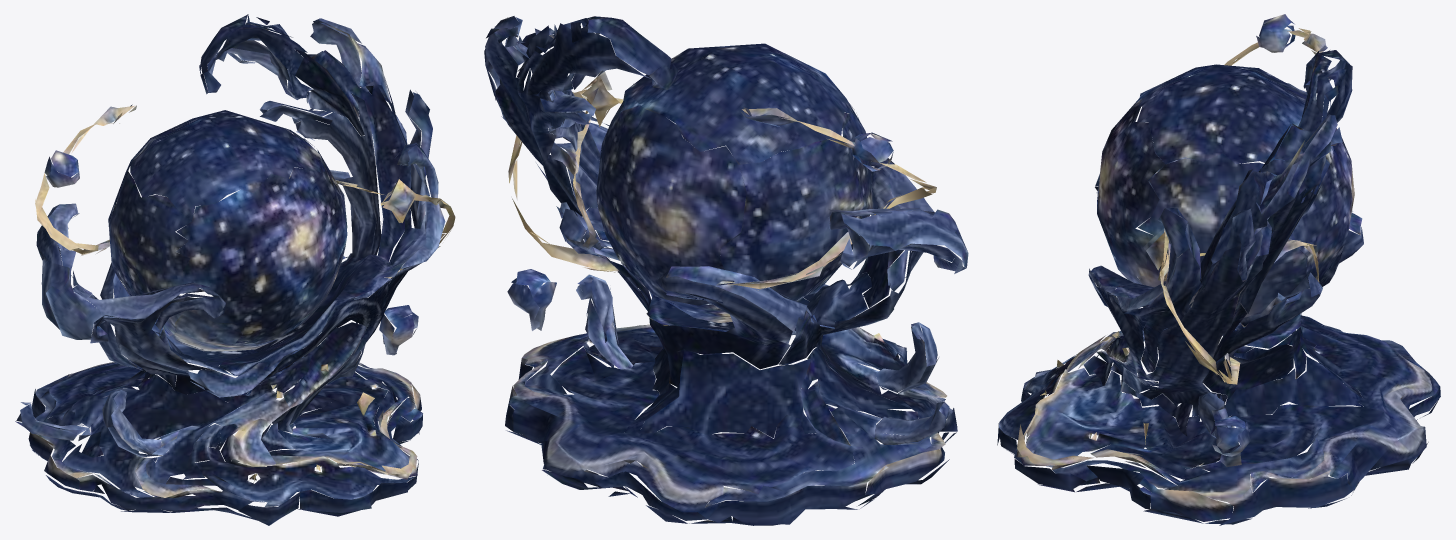
File: deco_water_orb_lite.glb
The picture shows the model from 3 angles, left to right: view 1: azimuth 30°, elevation 25°; view 2: azimuth 150°, elevation 25°; view 3: azimuth 270°, elevation 25°; orthographic projection. The views are drawn at different scales.
Visible parts, largest first — view 1: geometry_0; view 2: geometry_0; view 3: geometry_0.
Part boxes in pixels (x1,y1,x2,y2): geometry_0: (15, 14, 455, 525); geometry_0: (484, 16, 968, 525); geometry_0: (997, 14, 1440, 525).
Bounding box in the file's own units: 1.76 × 1.56 × 1.52.
1 material, 1 textured.
